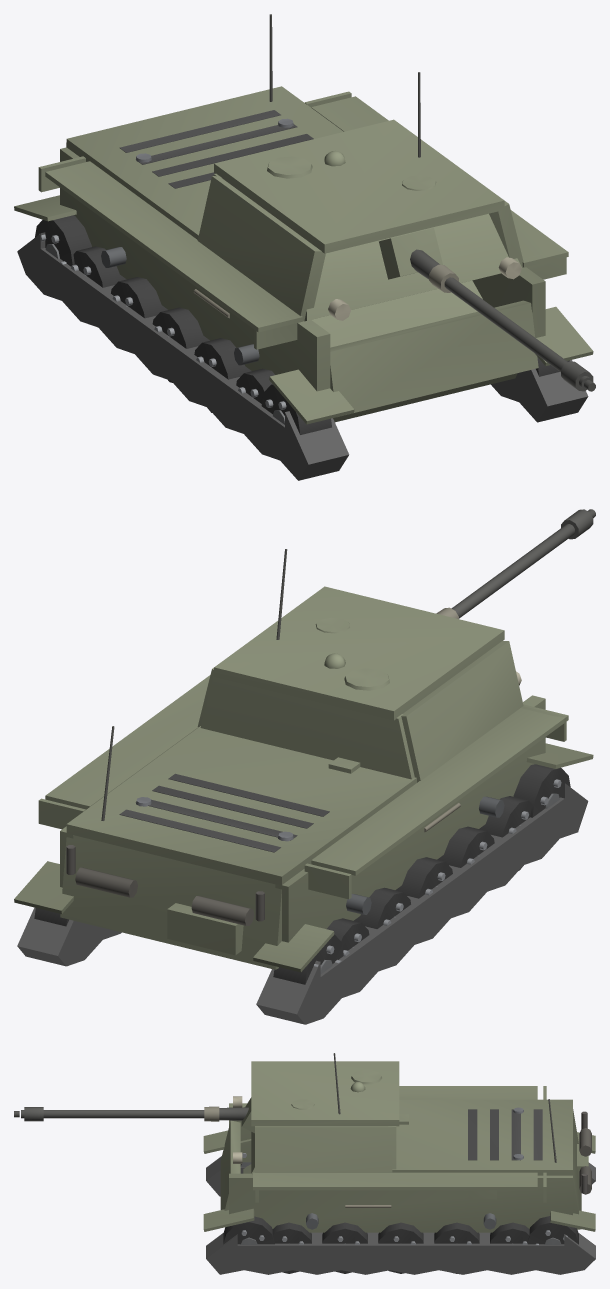
The picture shows the model from 3 angles, top to bottom: view 1: azimuth 30°, elevation 25°; view 2: azimuth 150°, elevation 25°; view 3: azimuth 270°, elevation 25°; orthographic projection. The views are drawn at different scales.
Parts seen in each view (by area): view 1: hullSide, tracks, turretRoof, hullTop, lowerPlate, mantlet, turretSide, glacis, barrel, wheel6, wheel2, wheel1 (+4 smaller); view 2: hullTop, hullSide, tracks, turretRoof, turretSide, hullRear, barrel, wheel5, wheel3, wheel2, wheel1, wheel4 (+2 smaller); view 3: hullSide, tracks, hullTop, turretRoof, turretSide, barrel, hullRear, lowerPlate, wheel12, wheel13, wheel10, wheel9 (+4 smaller).
Part boxes in pixels (x1,y1,x2,y2): hullSide: (38,91,568,391); tracks: (14,195,593,480); turretRoof: (214,72,504,253); hullTop: (66,86,343,239); lowerPlate: (330,300,538,412); mantlet: (304,213,521,321); turretSide: (197,173,523,321); glacis: (311,280,517,422); barrel: (410,249,595,391); wheel6: (35,215,91,266); wheel2: (152,307,209,382); wheel1: (111,277,167,318); hullTop: (66,726,416,885); hullSide: (38,671,568,942); tracks: (14,743,593,1024); turretRoof: (214,549,504,720); turretSide: (197,641,523,782); hullRear: (60,726,281,969); barrel: (436,509,595,618); wheel5: (513,764,570,817); wheel3: (437,826,494,867); wheel2: (395,857,452,898); wheel1: (354,887,410,928); wheel4: (479,796,531,870); hullSide: (229,1086,572,1232); tracks: (203,1130,595,1274); hullTop: (392,1099,572,1175); turretRoof: (251,1053,399,1126); turretSide: (255,1126,396,1172); barrel: (14,1106,248,1121); hullRear: (548,1099,591,1229); lowerPlate: (220,1120,240,1210); wheel12: (223,1216,274,1244); wheel13: (527,1216,578,1245); wheel10: (322,1222,367,1273); wheel9: (378,1222,423,1273).
Bounding box in the file's own units: 4.18 × 3.83 × 10.15.
